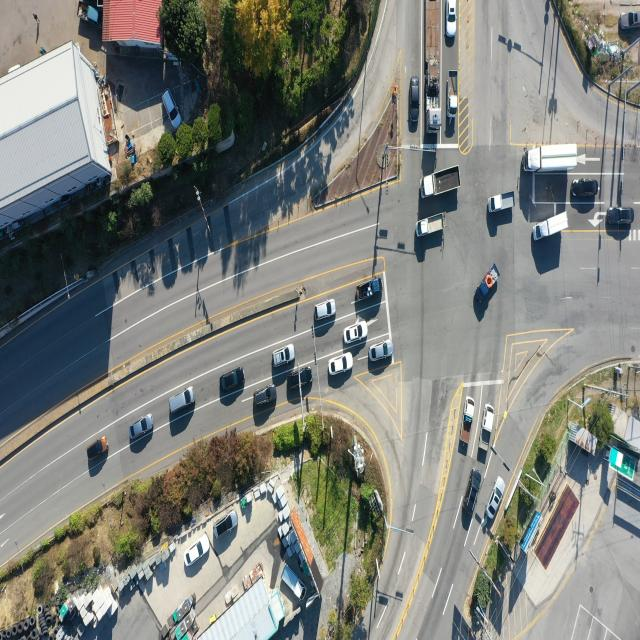car: (486, 476, 506, 520), (466, 469, 484, 516), (171, 384, 198, 413), (186, 538, 211, 569), (161, 91, 180, 131), (218, 369, 244, 394), (330, 352, 355, 376), (286, 368, 312, 391), (215, 513, 237, 540), (606, 206, 634, 227), (344, 322, 368, 346), (132, 415, 155, 440), (570, 178, 598, 198), (272, 345, 296, 368), (368, 340, 392, 362), (252, 385, 276, 407), (88, 438, 110, 462), (409, 79, 420, 124), (314, 300, 335, 321), (448, 0, 458, 37), (620, 10, 640, 28)
large_truck: (422, 0, 442, 134)
medium_truck: (525, 143, 580, 173), (420, 165, 460, 200), (534, 210, 569, 241)
small_truck: (279, 564, 306, 602), (479, 403, 496, 452), (476, 264, 499, 300), (459, 397, 475, 448), (416, 214, 444, 238), (487, 192, 515, 215), (356, 276, 381, 301), (77, 0, 101, 26), (446, 69, 457, 116)
